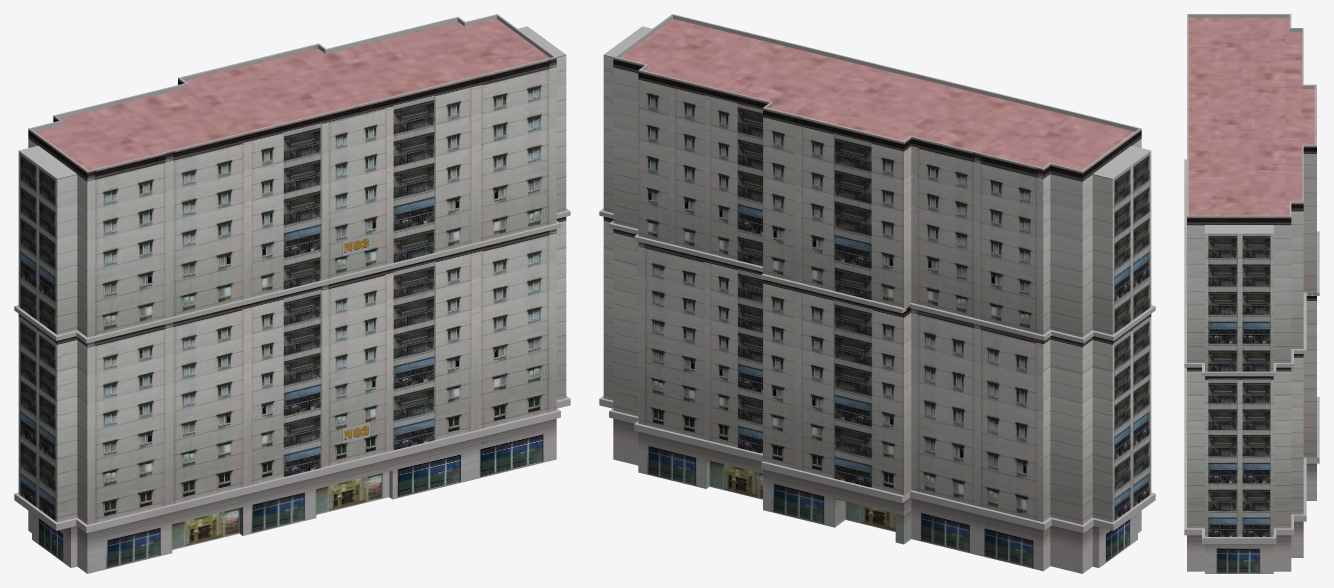
3 renders of one model, left to right at view 1: azimuth 30°, elevation 25°; view 2: azimuth 150°, elevation 25°; view 3: azimuth 270°, elevation 25°, orthographic. The views are drawn at different scales.
Visible parts, largest first — view 1: ChungCuN02YenHoa; view 2: ChungCuN02YenHoa; view 3: ChungCuN02YenHoa.
Part boxes in pixels (x1,y1,x2,y2): ChungCuN02YenHoa: (14,14,570,573); ChungCuN02YenHoa: (599,14,1155,573); ChungCuN02YenHoa: (1184,14,1319,573).
Size of the model in its own units: 60.33 by 45.08 by 15.57.
1 material, 1 textured.
